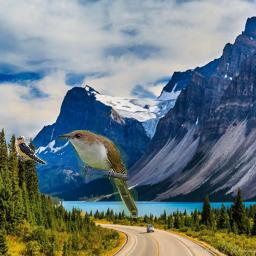Cuckoo: (56, 130, 138, 218)
Swallow: (15, 134, 48, 166)
